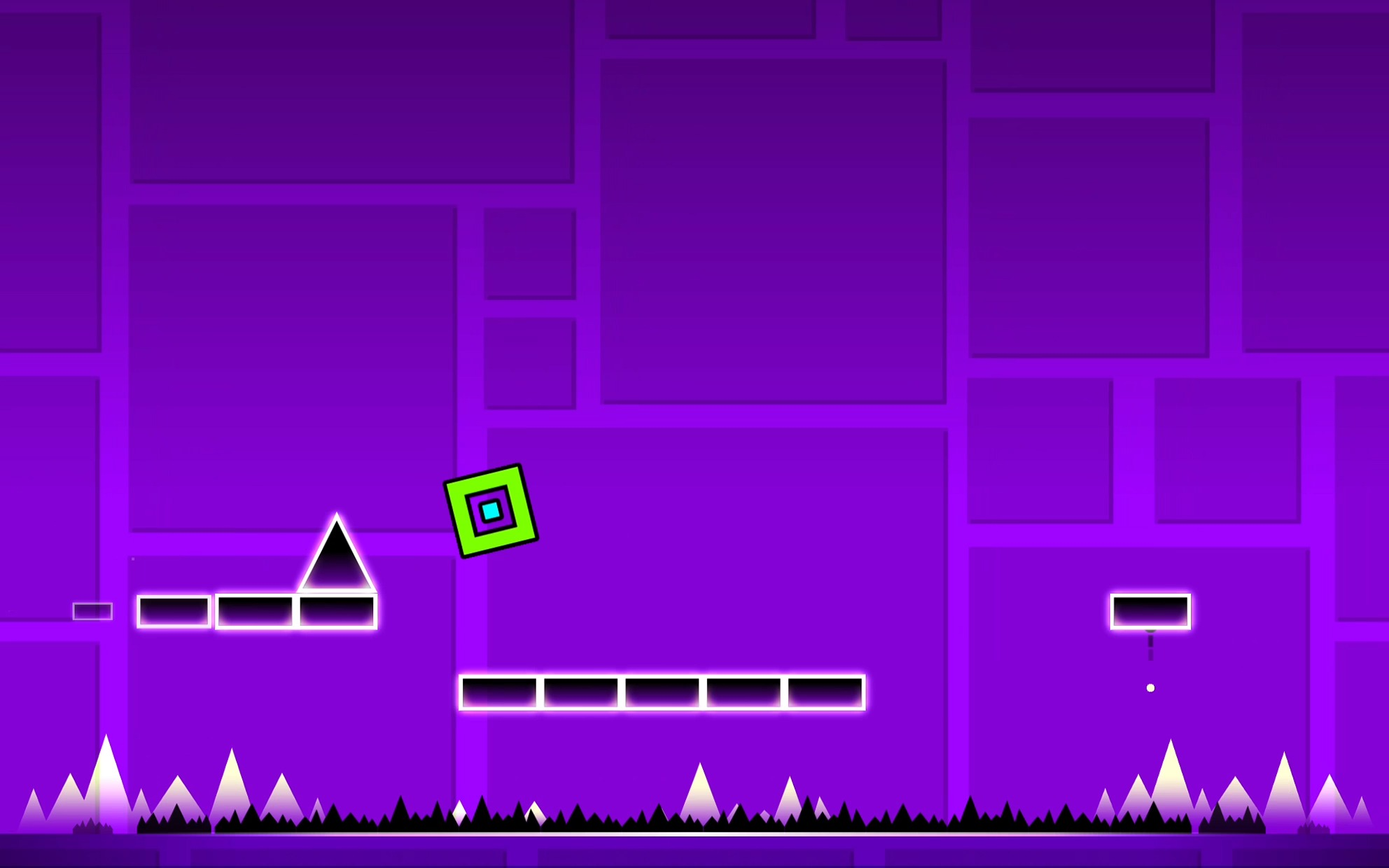Block3: (133, 596, 305, 631), (1111, 594, 1197, 632), (461, 675, 543, 708), (299, 594, 377, 628), (141, 597, 218, 630), (788, 676, 863, 709), (544, 677, 617, 707), (625, 677, 698, 707), (707, 677, 779, 707)
Player: (444, 464, 538, 558)
Spike: (297, 516, 376, 594)
Spike3: (17, 792, 1330, 829)
